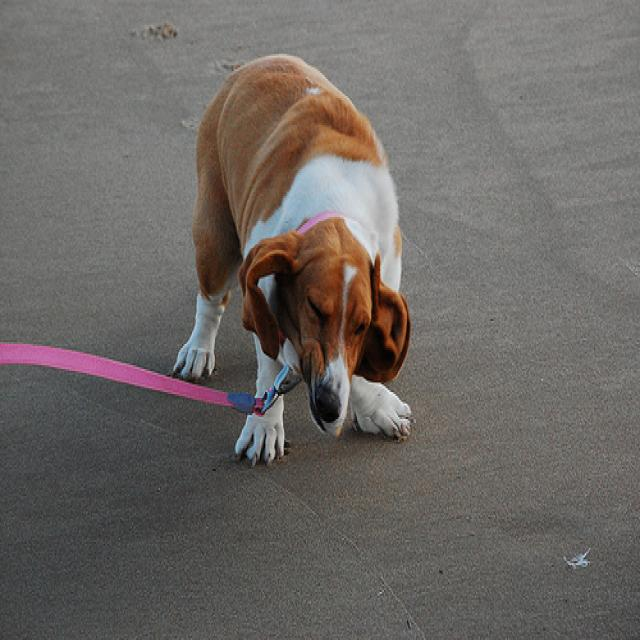dog-basset_hound: (169, 48, 415, 465)
